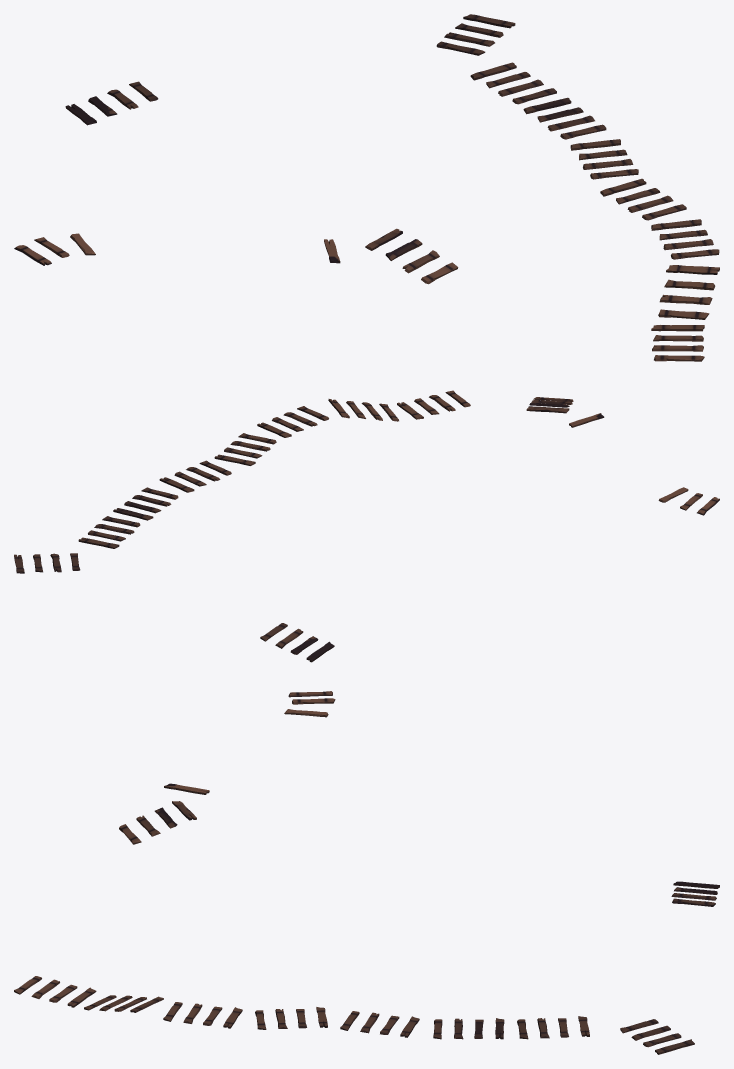
The model's file is Rail_01.FBX.
3 views of the same model, one above another, from view 1: azimuth 30°, elevation 25°; view 2: azimuth 150°, elevation 25°; view 3: azimuth 270°, elevation 25° (orthographic). The views are drawn at different scales.
Parts seen in each view (by area): view 1: Rail_01; view 2: Rail_01; view 3: Rail_01.
Part boxes in pixels (box(x1,y1,x2,y2)): Rail_01: box(14, 14, 719, 361); Rail_01: box(14, 390, 719, 662); Rail_01: box(14, 691, 719, 1054).
Bounding box in the file's own units: 32.73 × 4.76 × 33.55.
